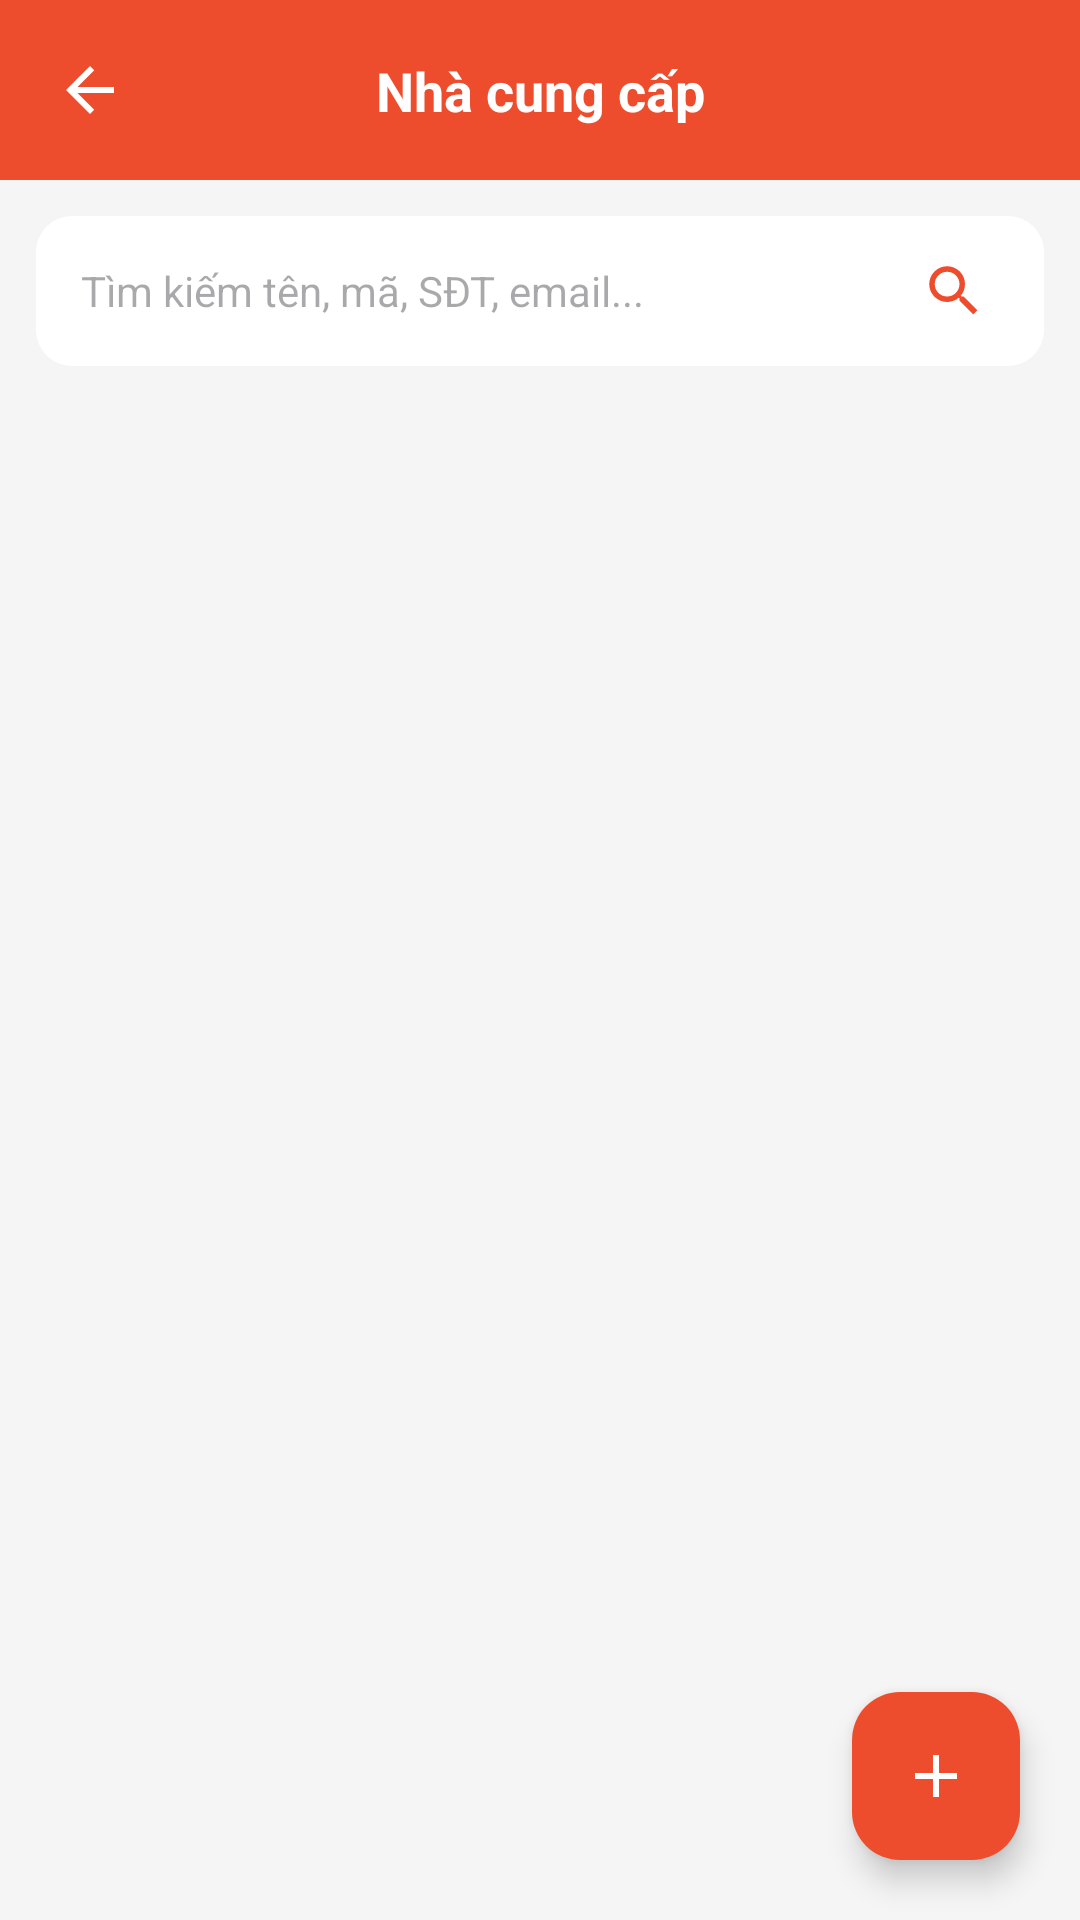

Where icons sit on this 1080x1920 app screen, as (x1, y1, x2, y2):
add: (852, 1692, 1020, 1860)
back: (66, 66, 114, 114)
search: (929, 266, 978, 315)
